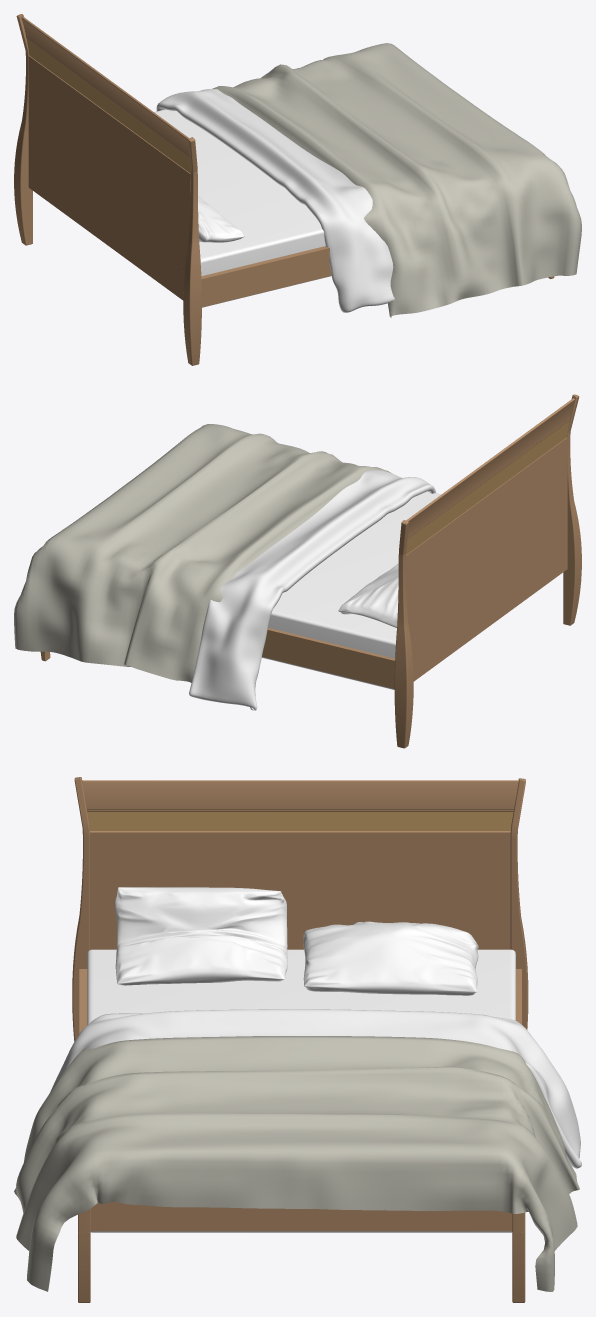
The model's file is verdicchio-cama.glb.
3 views of the same model, one above another, from view 1: azimuth 30°, elevation 25°; view 2: azimuth 150°, elevation 25°; view 3: azimuth 270°, elevation 25° (orthographic). The views are drawn at different scales.
Parts seen in each view (by area): view 1: object 11, object 1, object 12, Obj_000003#1, object 2, object 17, object 5, object 7, object 4, object 3, object 10; view 2: object 11, object 1, object 12, Obj_000003#1, object 2, object 18, object 5, object 3, object 4, object 7, object 13; view 3: object 11, object 1, object 10, object 12, Obj_000003#1, object 5, object 13, object 16, object 4, Componente#4 (×2), object 7, object 3 (+2 smaller).
Boxes of the visible parts, x1=… form: object 11: x1=212, y1=43, x2=581, y2=317; object 1: x1=28, y1=55, x2=190, y2=272; object 12: x1=156, y1=89, x2=394, y2=312; Obj_000003#1: x1=154, y1=109, x2=331, y2=307; object 2: x1=28, y1=159, x2=184, y2=300; object 17: x1=201, y1=246, x2=331, y2=307; object 5: x1=21, y1=16, x2=190, y2=157; object 7: x1=183, y1=137, x2=201, y2=365; object 4: x1=26, y1=39, x2=190, y2=173; object 3: x1=14, y1=14, x2=32, y2=245; object 10: x1=198, y1=196, x2=244, y2=242; object 11: x1=14, y1=424, x2=392, y2=682; object 1: x1=406, y1=437, x2=567, y2=654; object 12: x1=189, y1=470, x2=436, y2=710; Obj_000003#1: x1=262, y1=491, x2=441, y2=689; object 2: x1=412, y1=541, x2=567, y2=681; object 18: x1=262, y1=627, x2=395, y2=688; object 5: x1=405, y1=398, x2=574, y2=538; object 3: x1=394, y1=520, x2=413, y2=748; object 4: x1=406, y1=421, x2=569, y2=554; object 7: x1=563, y1=394, x2=581, y2=625; object 13: x1=338, y1=563, x2=398, y2=627; object 11: x1=14, y1=1036, x2=579, y2=1291; object 1: x1=90, y1=833, x2=510, y2=949; object 10: x1=115, y1=887, x2=287, y2=985; object 12: x1=50, y1=1009, x2=581, y2=1168; Obj_000003#1: x1=87, y1=949, x2=515, y2=1232; object 5: x1=82, y1=780, x2=518, y2=809; object 13: x1=303, y1=921, x2=478, y2=995; object 16: x1=90, y1=1202, x2=512, y2=1231; object 4: x1=87, y1=812, x2=513, y2=830; Componente#4 (×2): x1=78, y1=1208, x2=525, y2=1302; object 7: x1=72, y1=777, x2=89, y2=1041; object 3: x1=510, y1=778, x2=528, y2=1029.
Size of the model in its own units: 2.14 by 1.22 by 2.1.
